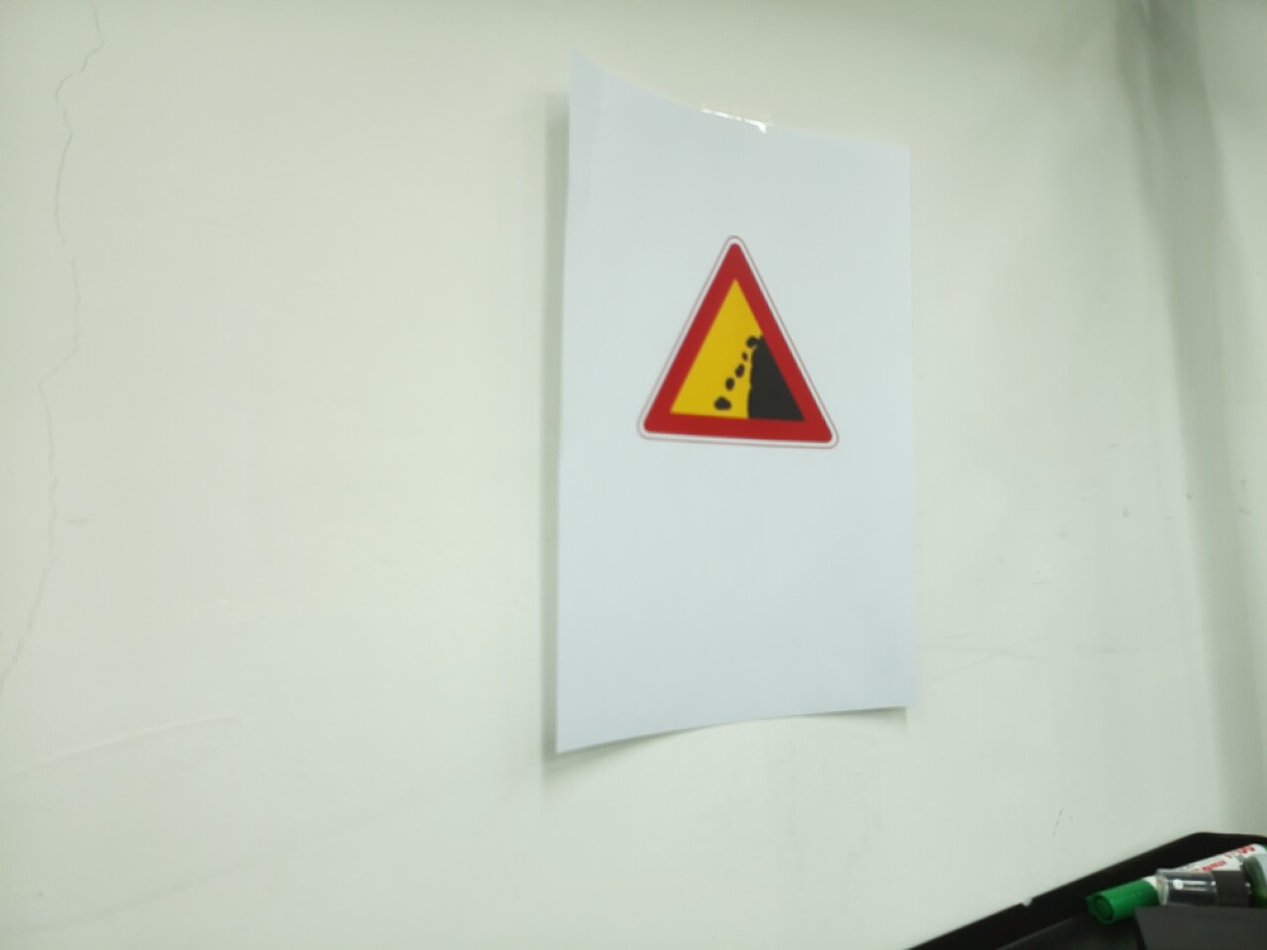falling_rocks: (636, 236, 839, 451)
